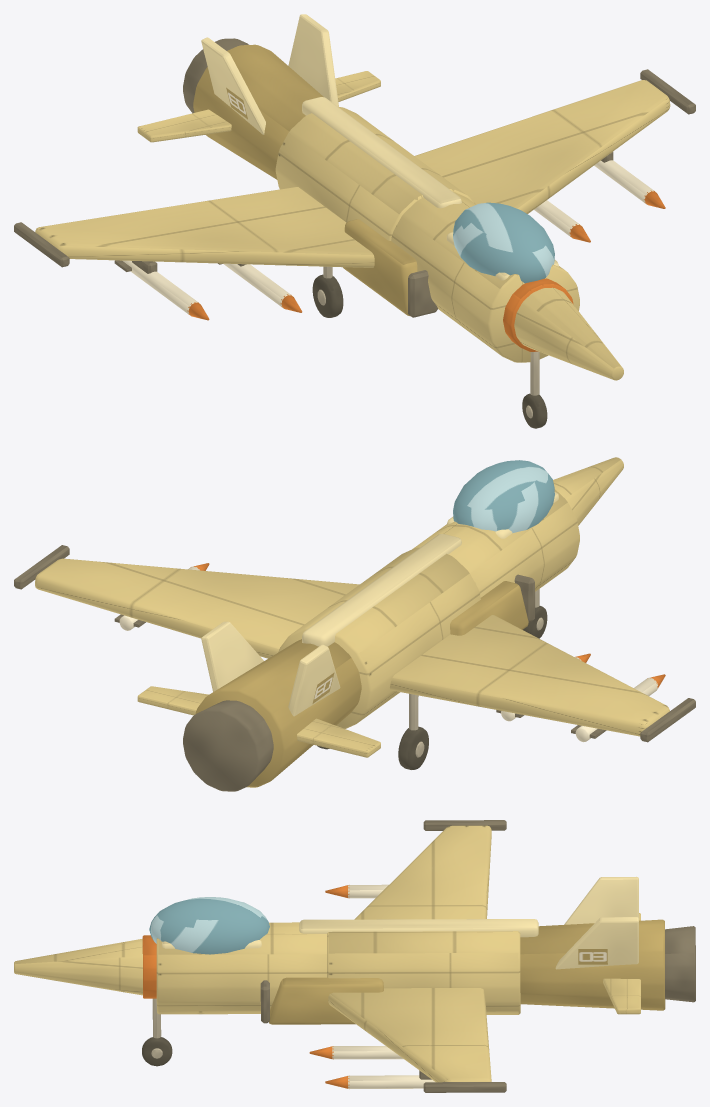
File: fighter.glb
3 renders of one model, top to bottom at view 1: azimuth 30°, elevation 25°; view 2: azimuth 150°, elevation 25°; view 3: azimuth 270°, elevation 25°, orthographic. The views are drawn at different scales.
Visible parts, largest first — view 1: Fighter, Missile_L2, Missile_L1, Missile_R2, Missile_R1; view 2: Fighter, Missile_L2; view 3: Fighter, Missile_R2, Missile_R1, Missile_L2.
Part boxes in pixels (<box>): Fighter: <box>14,14,695,428</box>; Missile_L2: <box>114,260,209,320</box>; Missile_L1: <box>218,263,302,312</box>; Missile_R2: <box>594,160,665,208</box>; Missile_R1: <box>534,200,590,242</box>; Fighter: <box>14,457,695,791</box>; Missile_L2: <box>571,674,665,742</box>; Fighter: <box>14,820,695,1092</box>; Missile_R2: <box>325,1075,435,1088</box>; Missile_R1: <box>309,1046,403,1059</box>; Missile_L2: <box>325,884,388,898</box>.
Size of the model in its own units: 6.83 by 2.01 by 7.41.
Materials: 1 (1 with a texture image).
